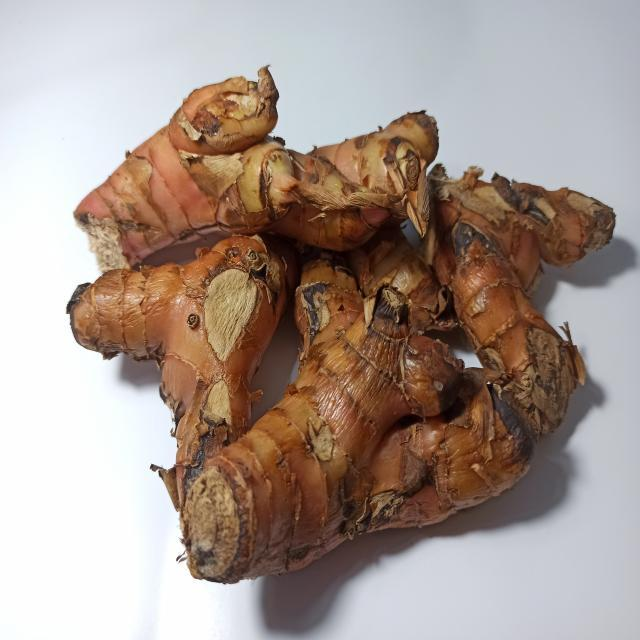ginger: (86, 80, 595, 534)
